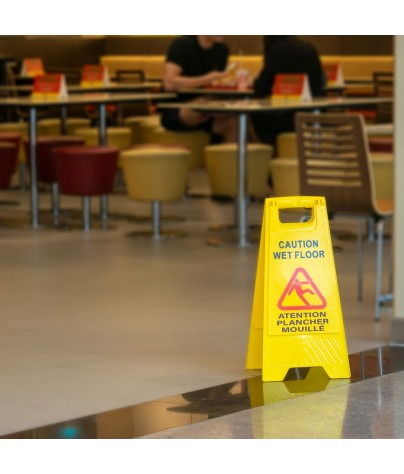wet caution sign: (241, 195, 346, 380)
